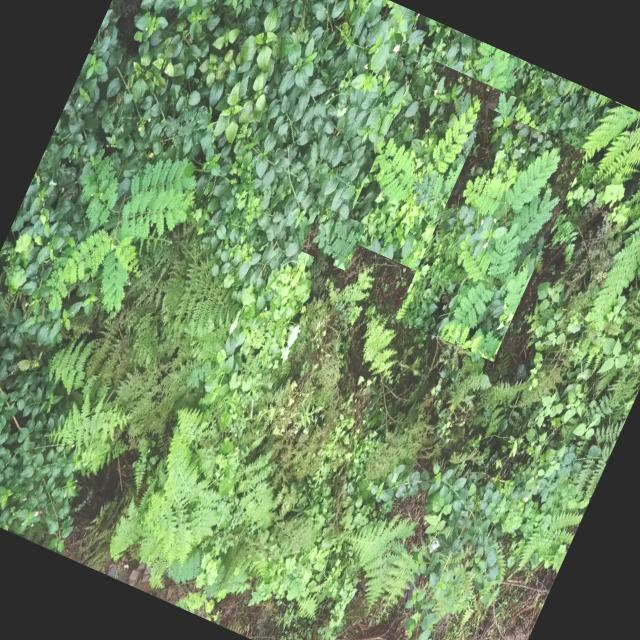Mysore-Thorn-Weed: (396, 108, 586, 362), (14, 122, 212, 358), (340, 56, 520, 282), (300, 206, 366, 272)
